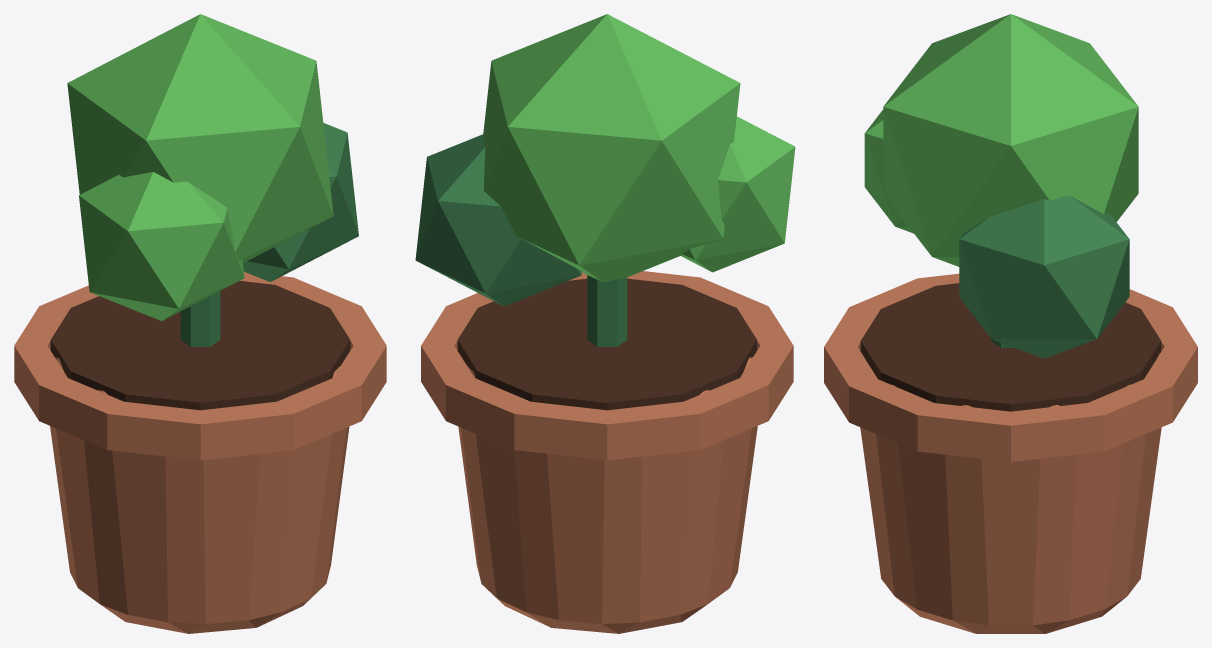
File: CatCafe_Decor_PlantPot.glb
3 views of the same model, side by side, from view 1: azimuth 30°, elevation 25°; view 2: azimuth 150°, elevation 25°; view 3: azimuth 270°, elevation 25° (orthographic).
Parts seen in each view (by area): view 1: CatCafe_Decor_PlantPot; view 2: CatCafe_Decor_PlantPot; view 3: CatCafe_Decor_PlantPot.
Part boxes in pixels (x1,y1,x2,y2): CatCafe_Decor_PlantPot: (14,14,386,633); CatCafe_Decor_PlantPot: (415,14,795,633); CatCafe_Decor_PlantPot: (824,14,1197,633).
Bounding box in the file's own units: 1.13 × 1.9 × 1.12.
Materials: 1 (1 with a texture image).
